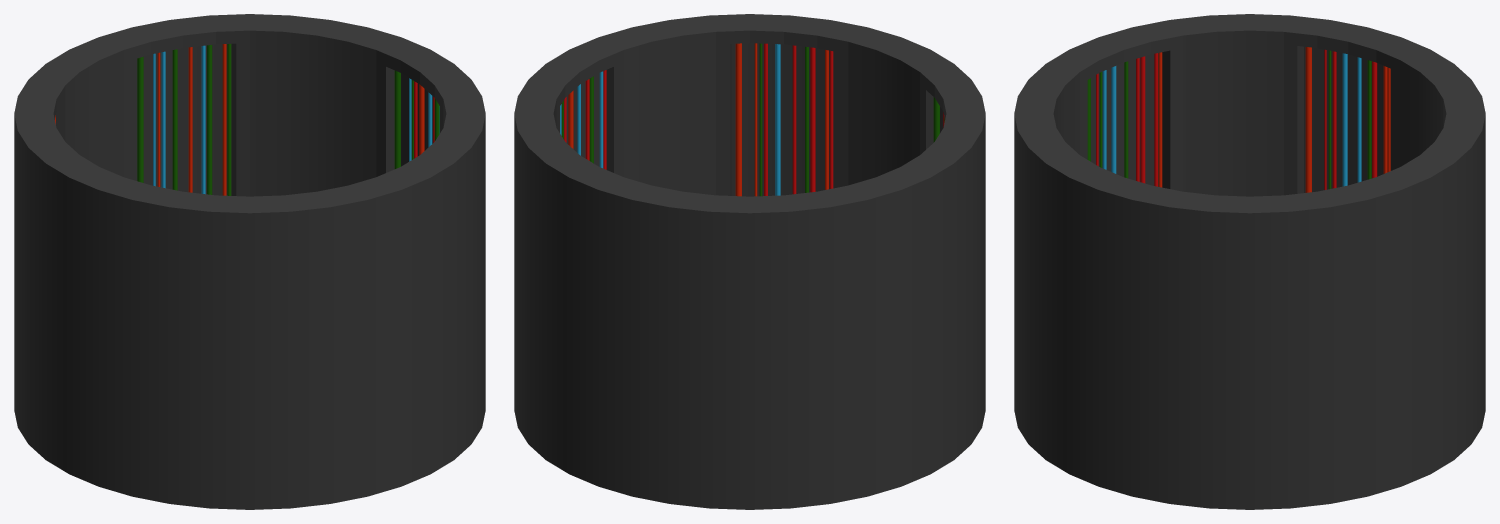
File: TussenBuis_02_V01.FBX
The picture shows the model from 3 angles, left to right: view 1: azimuth 30°, elevation 25°; view 2: azimuth 150°, elevation 25°; view 3: azimuth 270°, elevation 25°; orthographic projection.
Visible parts, largest first — view 1: Tube018, Kabel_053, Kabel_060, Kabel_056, Kabel_051, Kabel_052, Kabel_054, Kabel_055, Kabel_057, Kabel_100, Kabel_058; view 2: Tube018, Kabel_090, Kabel_086, Kabel_083, Kabel_085, Kabel_081, Kabel_089, Kabel_088, Kabel_087, Kabel_084, Kabel_082; view 3: Tube018, Kabel_070, Kabel_066, Kabel_073, Kabel_063, Kabel_067, Kabel_071, Kabel_076, Kabel_065, Kabel_064, Kabel_075, Kabel_068 (+2 smaller).
Boxes of the visible parts, x1=… form: Tube018: x1=14, y1=14, x2=485, y2=509; Kabel_053: x1=207, y1=45, x2=212, y2=194; Kabel_060: x1=137, y1=56, x2=143, y2=182; Kabel_056: x1=172, y1=49, x2=177, y2=190; Kabel_051: x1=227, y1=44, x2=231, y2=195; Kabel_052: x1=222, y1=44, x2=226, y2=195; Kabel_054: x1=201, y1=45, x2=205, y2=194; Kabel_055: x1=188, y1=47, x2=192, y2=192; Kabel_057: x1=161, y1=51, x2=165, y2=188; Kabel_100: x1=394, y1=70, x2=400, y2=168; Kabel_058: x1=157, y1=52, x2=160, y2=186; Tube018: x1=514, y1=14, x2=985, y2=509; Kabel_090: x1=735, y1=43, x2=741, y2=196; Kabel_086: x1=775, y1=44, x2=780, y2=195; Kabel_083: x1=810, y1=47, x2=815, y2=192; Kabel_085: x1=792, y1=45, x2=796, y2=194; Kabel_081: x1=829, y1=50, x2=833, y2=188; Kabel_089: x1=754, y1=43, x2=757, y2=196; Kabel_088: x1=759, y1=43, x2=762, y2=196; Kabel_087: x1=764, y1=43, x2=767, y2=195; Kabel_084: x1=805, y1=46, x2=808, y2=192; Kabel_082: x1=825, y1=49, x2=828, y2=189; Tube018: x1=1014, y1=14, x2=1485, y2=509; Kabel_070: x1=1305, y1=47, x2=1311, y2=192; Kabel_066: x1=1342, y1=53, x2=1347, y2=186; Kabel_073: x1=1140, y1=56, x2=1145, y2=183; Kabel_063: x1=1372, y1=61, x2=1377, y2=178; Kabel_067: x1=1332, y1=51, x2=1336, y2=188; Kabel_071: x1=1158, y1=52, x2=1162, y2=187; Kabel_076: x1=1111, y1=66, x2=1116, y2=173; Kabel_065: x1=1357, y1=57, x2=1361, y2=182; Kabel_064: x1=1367, y1=60, x2=1371, y2=179; Kabel_075: x1=1124, y1=61, x2=1128, y2=178; Kabel_068: x1=1328, y1=50, x2=1331, y2=189.
Size of the model in its own units: 360 by 250 by 360.
